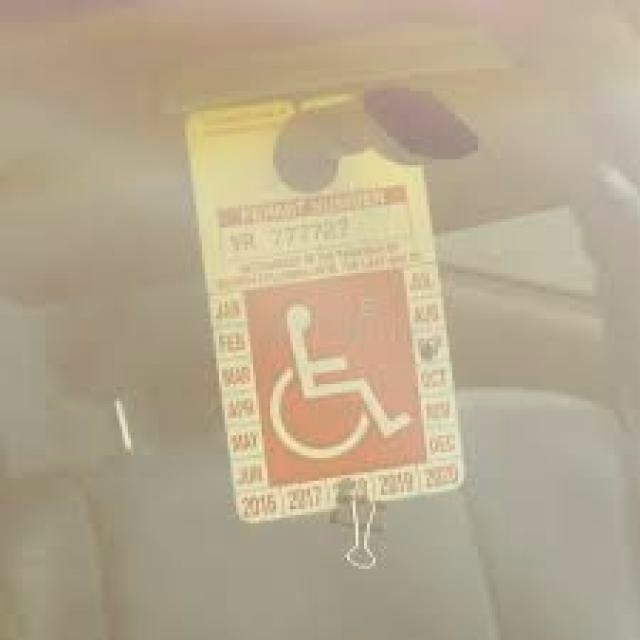ISA: (266, 304, 412, 460)
